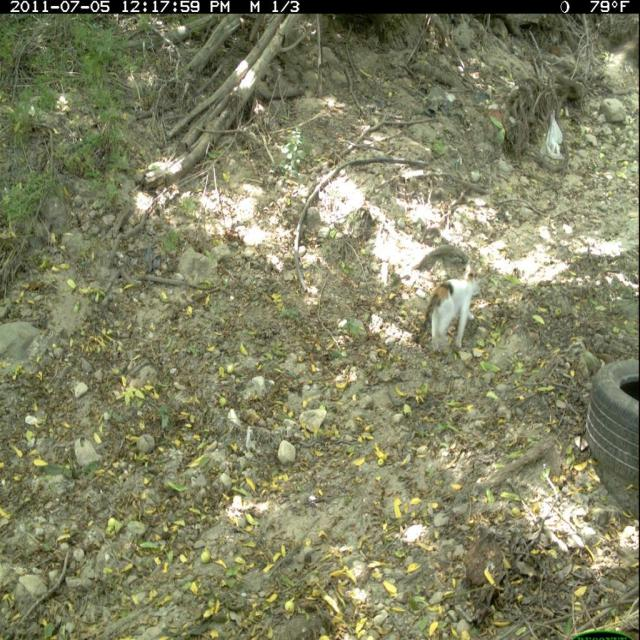cat: (411, 260, 488, 355)
